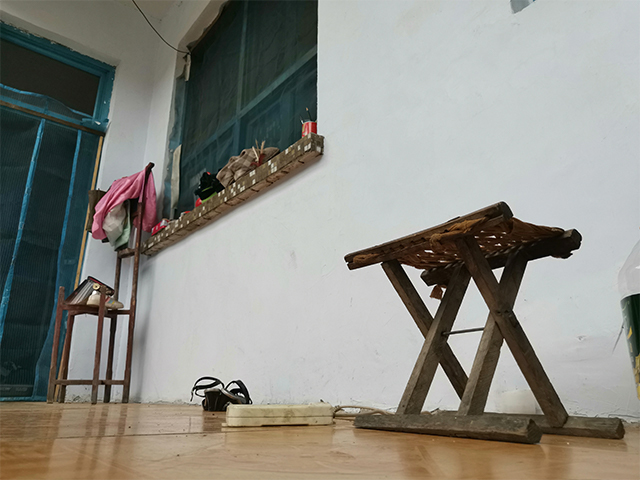stool: (343, 200, 628, 445)
wire: (329, 402, 397, 419)
